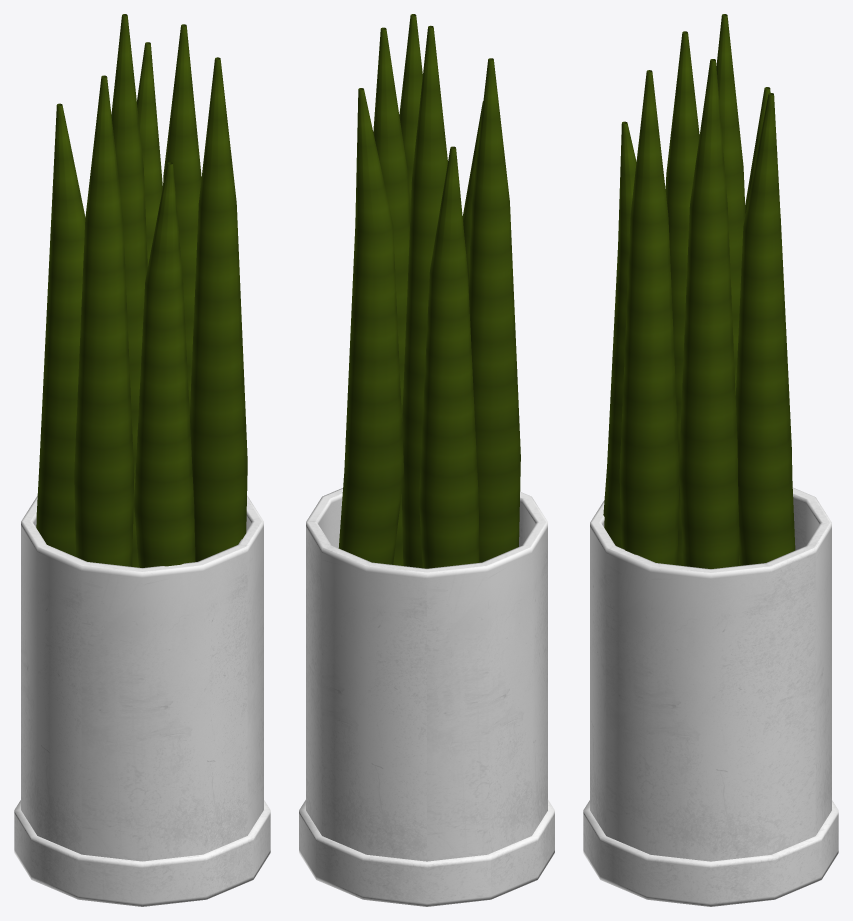
File: Plant_G.fbx
3 views of the same model, side by side, from view 1: azimuth 30°, elevation 25°; view 2: azimuth 150°, elevation 25°; view 3: azimuth 270°, elevation 25° (orthographic).
Visible parts, largest first — view 1: Plant_G; view 2: Plant_G; view 3: Plant_G.
Boxes of the visible parts, <box> form: Plant_G: <box>14,14,270,906</box>; Plant_G: <box>299,14,554,906</box>; Plant_G: <box>583,14,838,906</box>.
Size of the model in its own units: 36.64 by 132 by 36.64.
2 materials, 2 textured.
